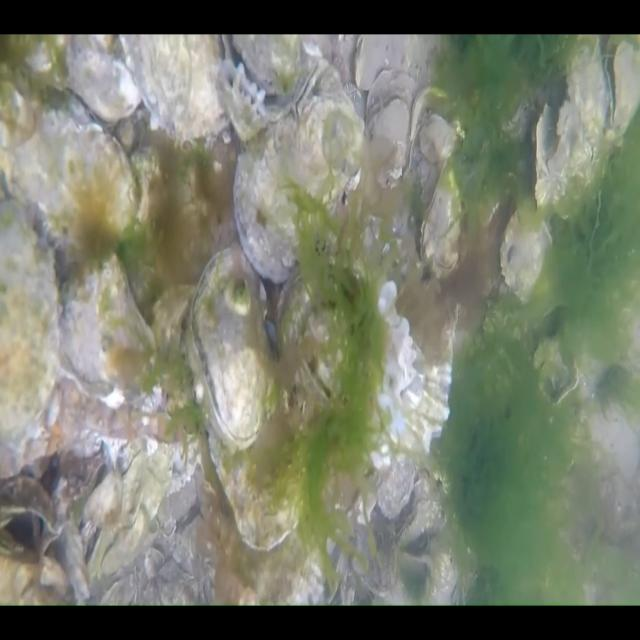Oyster- Indeterminate: (155, 138, 236, 284)
Oyster-Closed: (0, 54, 167, 270), (177, 240, 281, 453), (201, 397, 337, 558), (35, 253, 171, 411), (0, 202, 59, 440), (378, 280, 451, 451), (46, 25, 154, 132), (278, 276, 345, 429), (231, 147, 300, 286), (484, 196, 562, 304), (107, 432, 182, 536), (356, 66, 419, 189), (72, 508, 163, 585), (419, 168, 464, 279), (366, 450, 424, 524), (0, 36, 66, 91), (0, 82, 36, 168), (81, 488, 100, 524), (90, 461, 110, 488)
Oyster-Open: (385, 468, 457, 605), (0, 473, 70, 603), (202, 50, 282, 144), (341, 502, 407, 610), (519, 334, 586, 406), (232, 36, 301, 97)
